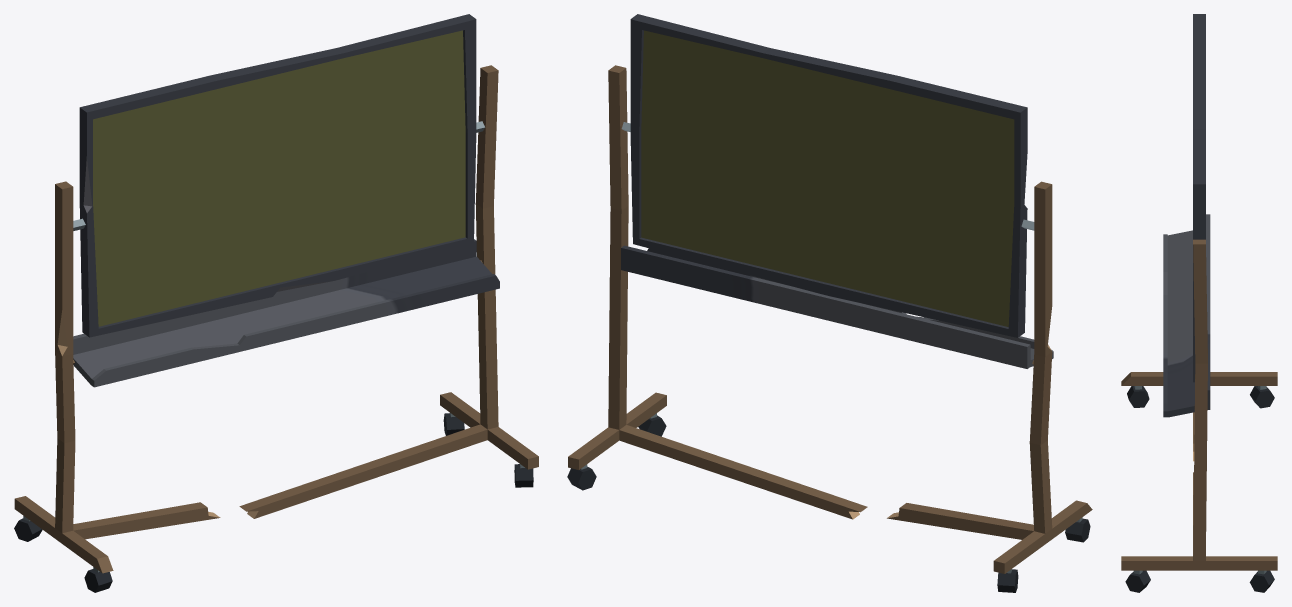
File: SM_Chalk_Board_A.fbx
The picture shows the model from 3 angles, left to right: view 1: azimuth 30°, elevation 25°; view 2: azimuth 150°, elevation 25°; view 3: azimuth 270°, elevation 25°; orthographic projection. The views are drawn at different scales.
Visible parts, largest first — view 1: SM_Board, SM_Chalk_Board_A; view 2: SM_Board, SM_Chalk_Board_A; view 3: SM_Chalk_Board_A, SM_Board.
Boxes of the visible parts, left/top/right/bottom form: SM_Board: left=79, top=14, right=476, bottom=337; SM_Chalk_Board_A: left=14, top=65, right=538, bottom=592; SM_Board: left=630, top=14, right=1027, bottom=337; SM_Chalk_Board_A: left=567, top=65, right=1092, bottom=592; SM_Chalk_Board_A: left=1121, top=214, right=1277, bottom=592; SM_Board: left=1193, top=14, right=1205, bottom=382.
Size of the model in its own units: 231 by 222 by 78.61.
